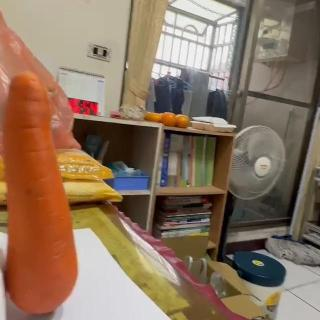carrot: (2, 70, 80, 316)
